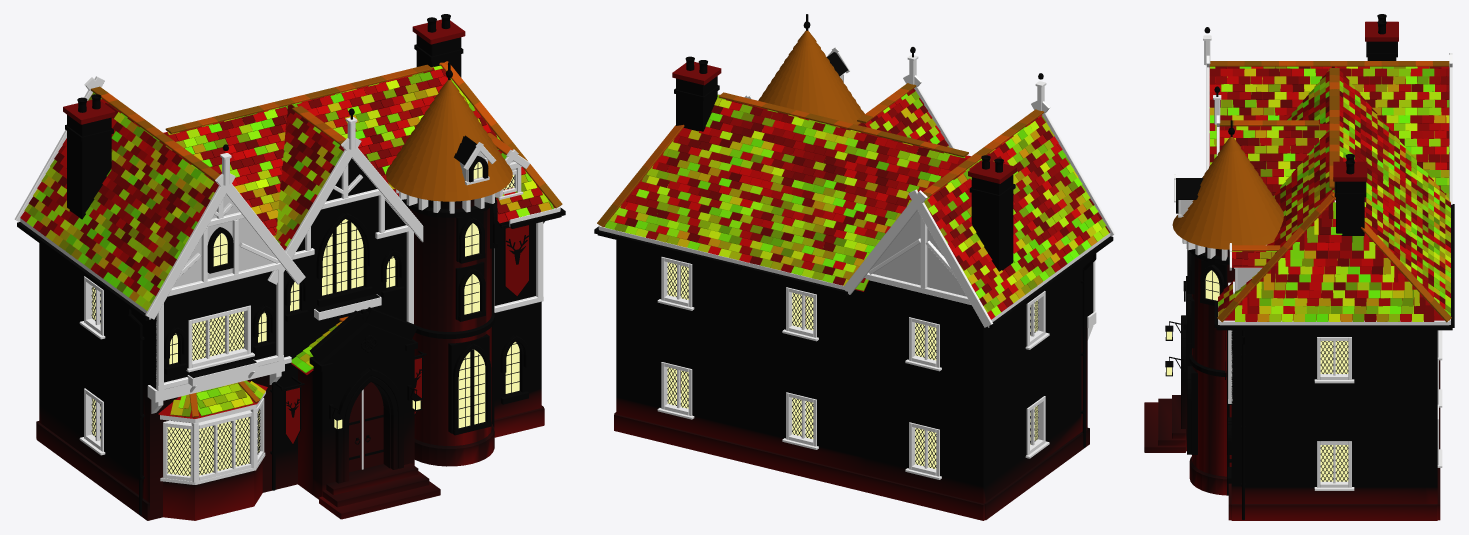
Rendered from SilverbrookNorthridgeHouse1.fbx.
3 renders of one model, left to right at view 1: azimuth 30°, elevation 25°; view 2: azimuth 150°, elevation 25°; view 3: azimuth 270°, elevation 25°, orthographic. The views are drawn at different scales.
Visible parts, largest first — view 1: SM_SBNorthridgeHouse1_Masonry, SM_SBNorthridgeHouse1_Roof, SM_SBNorthridgeHouse1_Timber, SM_SBNorthridgeHouse1_Details, SM_SBNorthridgeHouse1_Trim, SM_SBNorthridgeHouse1_Plaster; view 2: SM_SBNorthridgeHouse1_Masonry, SM_SBNorthridgeHouse1_Roof, SM_SBNorthridgeHouse1_Timber, SM_SBNorthridgeHouse1_Trim, SM_SBNorthridgeHouse1_Details, SM_SBNorthridgeHouse1_Plaster; view 3: SM_SBNorthridgeHouse1_Roof, SM_SBNorthridgeHouse1_Masonry, SM_SBNorthridgeHouse1_Trim, SM_SBNorthridgeHouse1_Details, SM_SBNorthridgeHouse1_Timber, SM_SBNorthridgeHouse1_Plaster.
Part boxes in pixels (box(x1,y1,x2,y2)): SM_SBNorthridgeHouse1_Masonry: box(39, 34, 541, 520); SM_SBNorthridgeHouse1_Roof: box(20, 61, 562, 418); SM_SBNorthridgeHouse1_Timber: box(14, 76, 560, 484); SM_SBNorthridgeHouse1_Details: box(17, 14, 565, 515); SM_SBNorthridgeHouse1_Trim: box(36, 19, 544, 520); SM_SBNorthridgeHouse1_Plaster: box(173, 151, 516, 287); SM_SBNorthridgeHouse1_Masonry: box(616, 76, 1093, 503); SM_SBNorthridgeHouse1_Roof: box(597, 30, 1110, 319); SM_SBNorthridgeHouse1_Timber: box(598, 47, 1115, 479); SM_SBNorthridgeHouse1_Trim: box(614, 61, 1089, 520); SM_SBNorthridgeHouse1_Details: box(594, 14, 1113, 468); SM_SBNorthridgeHouse1_Plaster: box(839, 74, 966, 296); SM_SBNorthridgeHouse1_Roof: box(1172, 61, 1451, 322); SM_SBNorthridgeHouse1_Masonry: box(1144, 41, 1437, 503); SM_SBNorthridgeHouse1_Trim: box(1176, 21, 1440, 520); SM_SBNorthridgeHouse1_Details: box(1165, 14, 1454, 519); SM_SBNorthridgeHouse1_Timber: box(1174, 35, 1452, 490); SM_SBNorthridgeHouse1_Plaster: box(1180, 200, 1262, 290).
Bounding box in the file's own units: 1149 × 995 × 783.
